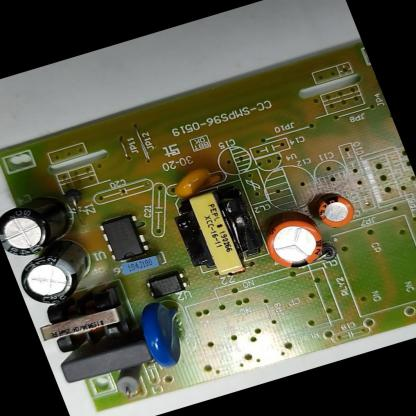Cap1: (258, 210, 332, 274)
Cap2: (314, 192, 358, 231)
Cap3: (15, 235, 107, 311)
Cap4: (0, 187, 85, 263)
MOSFET: (96, 211, 152, 264)
Mov: (132, 293, 203, 372)
Resistor: (107, 364, 152, 400)
Transformer: (166, 180, 273, 283), (32, 284, 138, 358)
